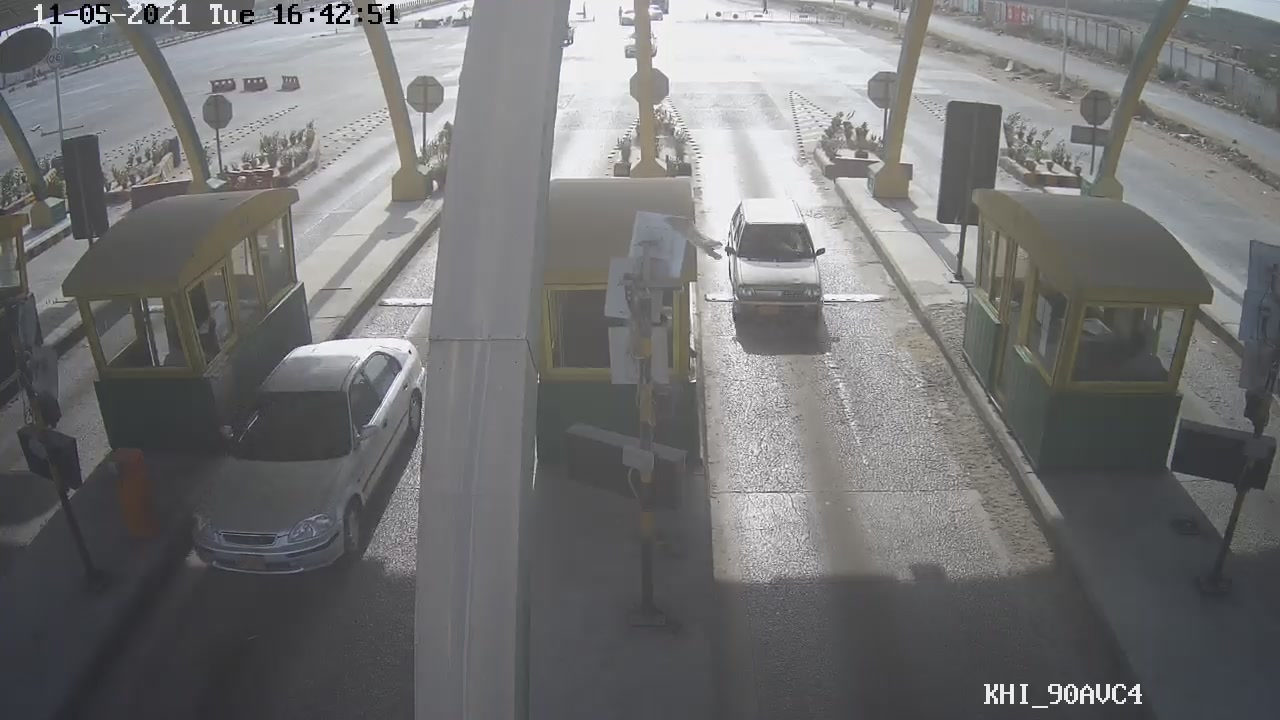F1: (721, 192, 838, 335)
